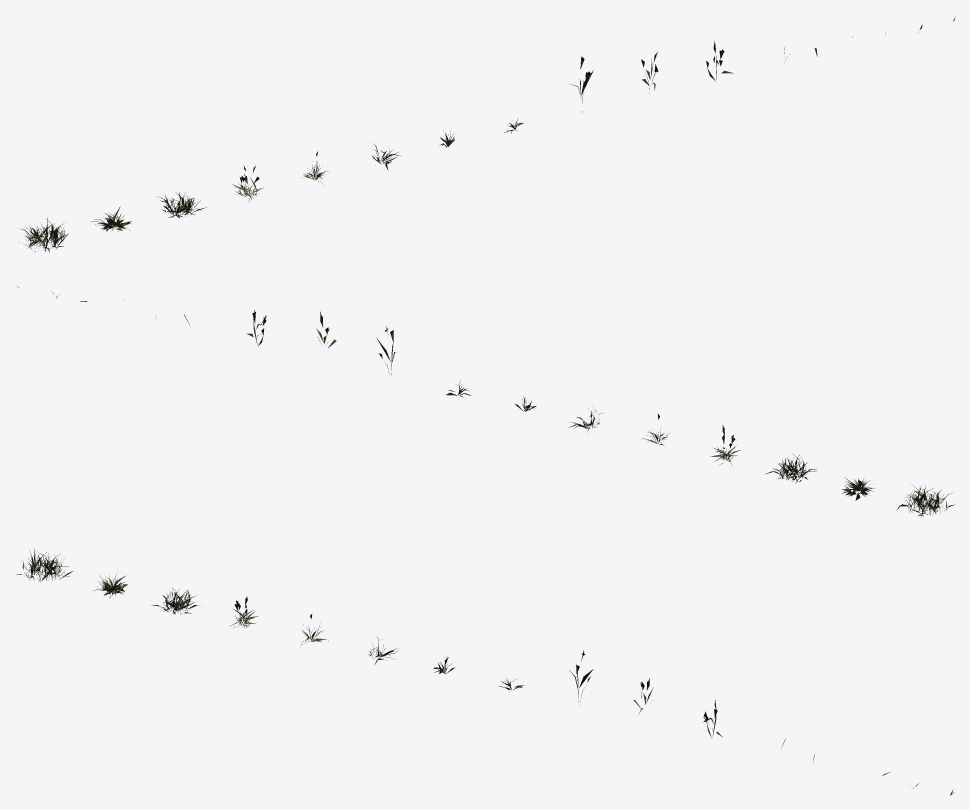
The model's file is grassTuft_lo.glb.
The picture shows the model from 3 angles, top to bottom: view 1: azimuth 30°, elevation 25°; view 2: azimuth 150°, elevation 25°; view 3: azimuth 330°, elevation 25°; orthographic projection.
Visible parts, largest first — view 1: grass_medium_01_large_a_LOD0; view 2: grass_medium_01_large_a_LOD0; view 3: grass_medium_01_large_a_LOD0.
Boxes of the visible parts, x1,y1,x2,y2 form: grass_medium_01_large_a_LOD0: (21, 218, 68, 252); grass_medium_01_large_a_LOD0: (896, 483, 954, 516); grass_medium_01_large_a_LOD0: (16, 548, 72, 582).
Size of the model in its own units: 5.59 by 0.3379 by 0.3178.
1 material, 1 textured.
